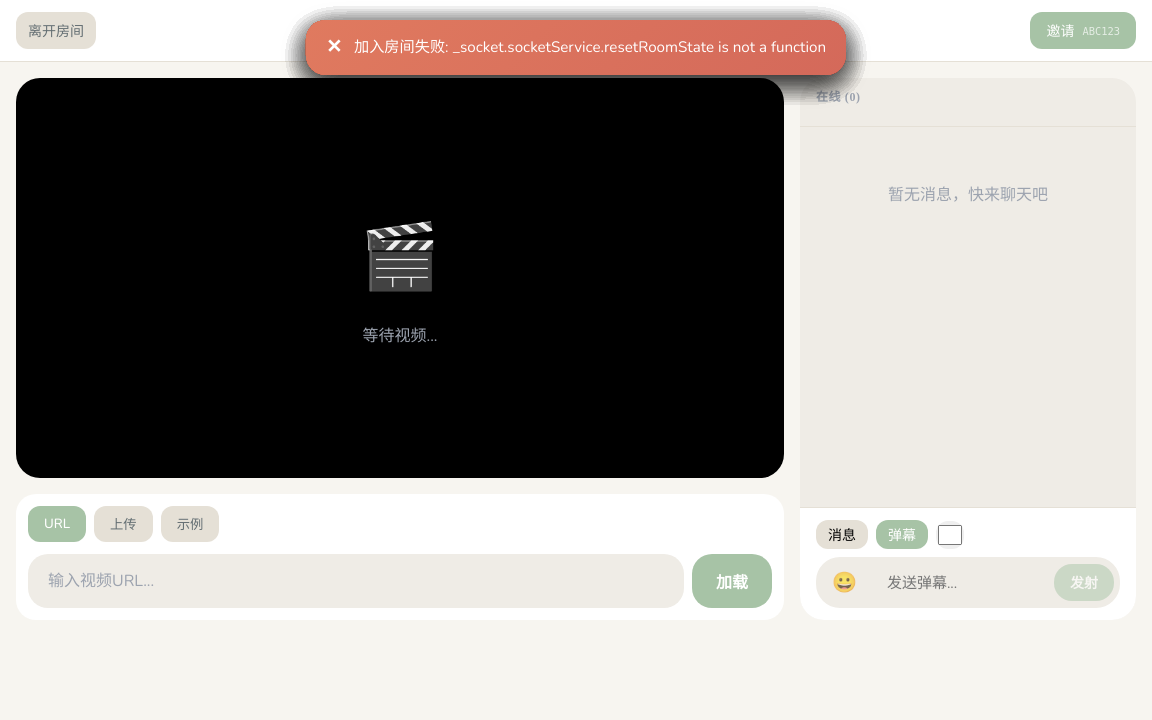
Scenario: RoomView › 文件上传测试 › 切换到上传标签时应该显示文件输入
Click the button "上传".
click(123, 524)  # box [94,506,153,542]
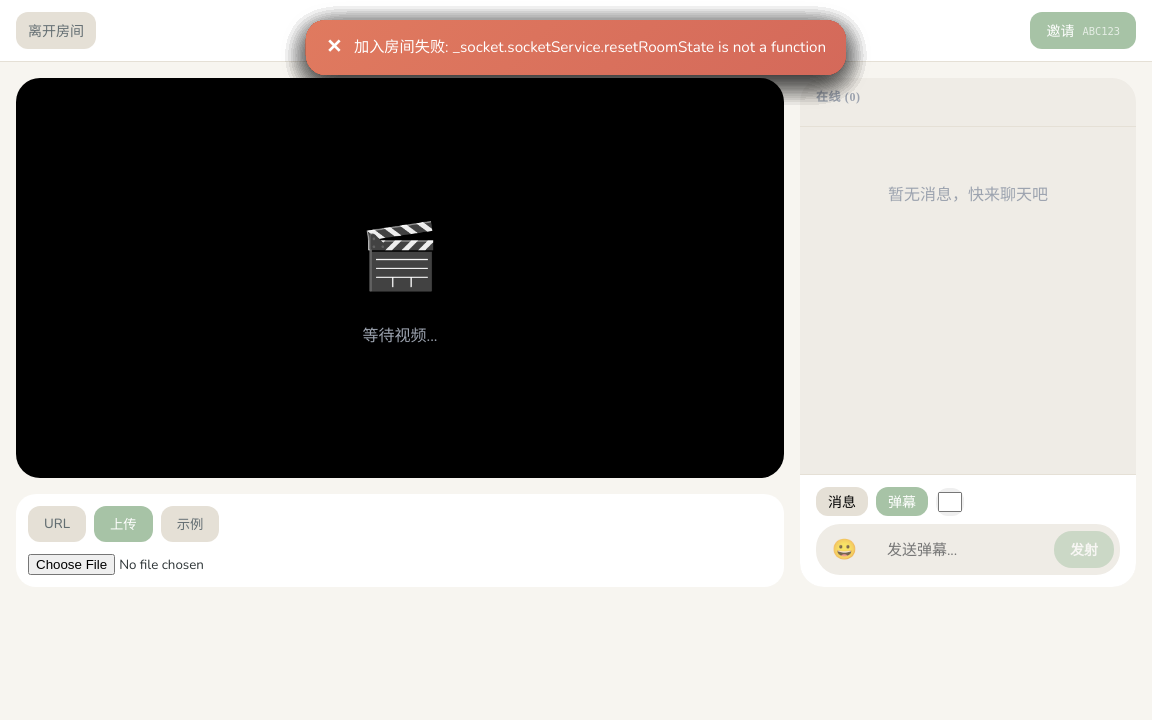
Check: the file field is shown, box [28,554,300,575]
